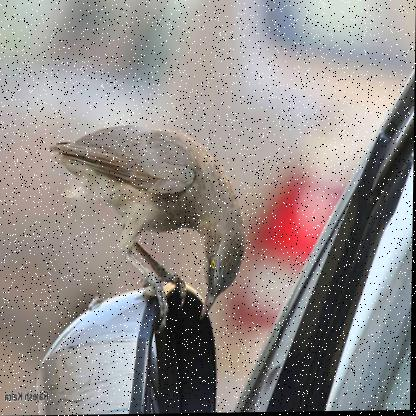Burung: (47, 122, 248, 337)
